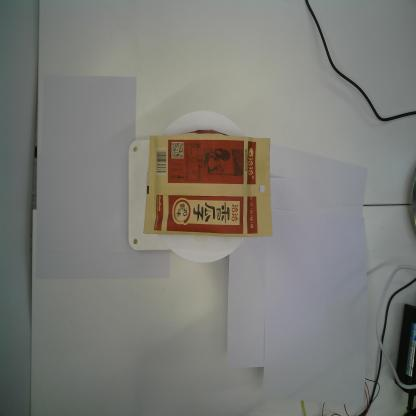Dried Food: (140, 131, 275, 242)
